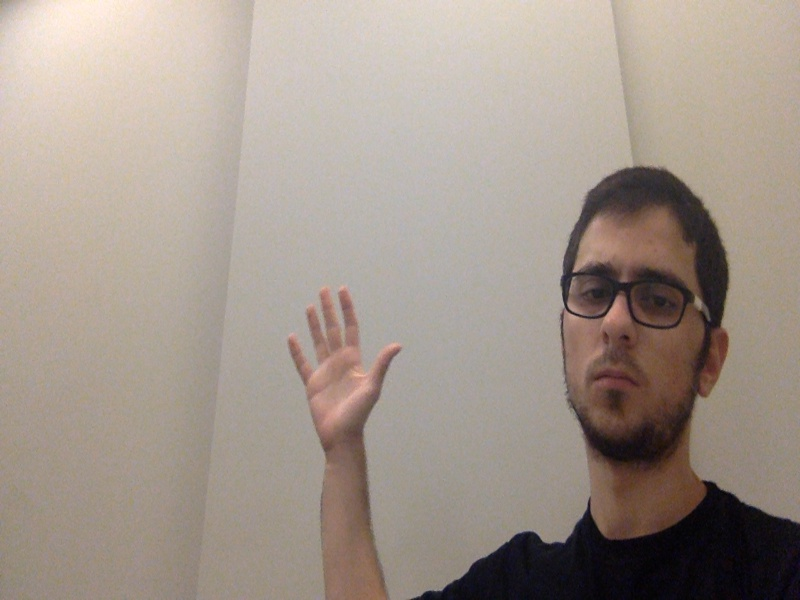5-hand: (283, 287, 412, 456)
